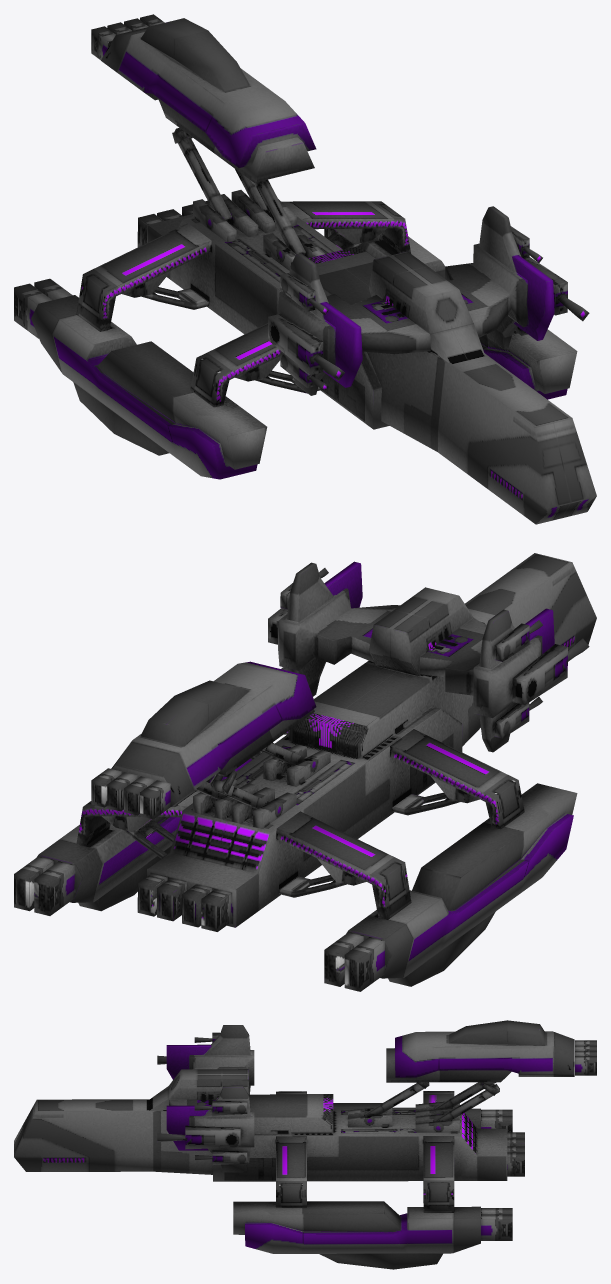
Rendered from boss_purple_01.fbx.
The picture shows the model from 3 angles, top to bottom: view 1: azimuth 30°, elevation 25°; view 2: azimuth 150°, elevation 25°; view 3: azimuth 270°, elevation 25°; orthographic projection. The views are drawn at different scales.
Visible parts, largest first — view 1: PFlagShipMod; view 2: PFlagShipMod; view 3: PFlagShipMod.
Boxes of the visible parts, left/top/right/bottom form: PFlagShipMod: left=14, top=14, right=596, bottom=524; PFlagShipMod: left=14, top=553, right=596, bottom=991; PFlagShipMod: left=14, top=1020, right=596, bottom=1269.
Size of the model in its own units: 4191 by 9014 by 3267.
